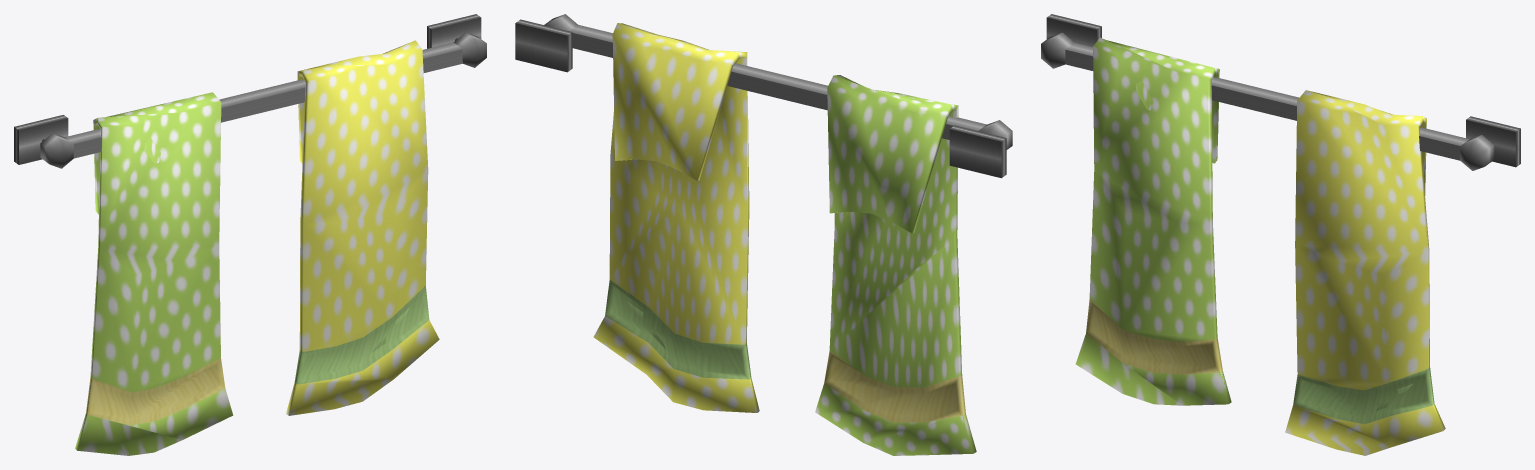
Rendered from Towel_Rack_02.FBX.
The picture shows the model from 3 angles, left to right: view 1: azimuth 30°, elevation 25°; view 2: azimuth 150°, elevation 25°; view 3: azimuth 330°, elevation 25°; orthographic projection. The views are drawn at different scales.
Visible parts, largest first — view 1: Towel_Rack; view 2: Towel_Rack; view 3: Towel_Rack.
Part boxes in pixels (x1=…): Towel_Rack: x1=14, y1=14, x2=486, y2=455; Towel_Rack: x1=515, y1=14, x2=1012, y2=455; Towel_Rack: x1=1041, y1=14, x2=1520, y2=455.
Bounding box in the file's own units: 174 × 125 × 19.24.
